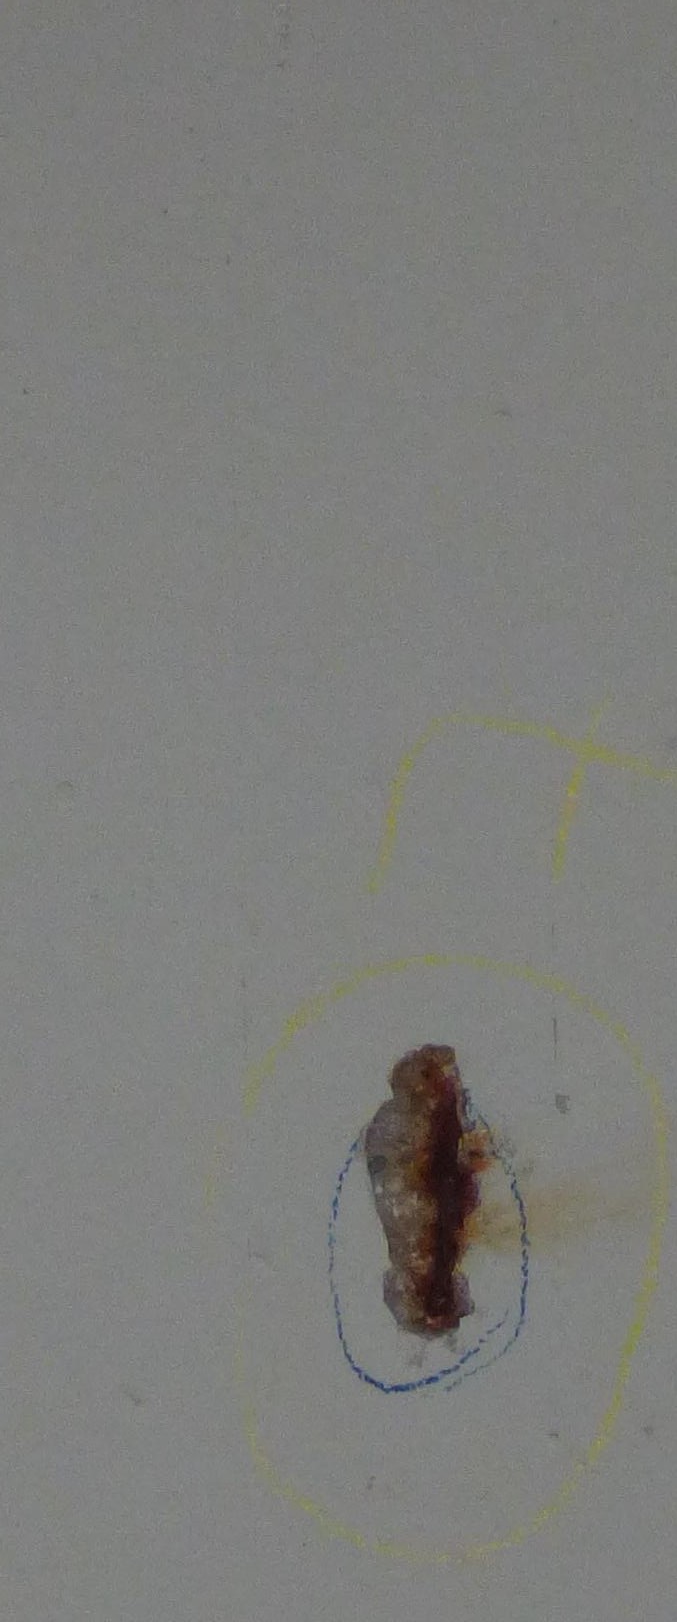Exposed reinforcement: (425, 1100, 457, 1316)
Spalling: (364, 1042, 494, 1340)
